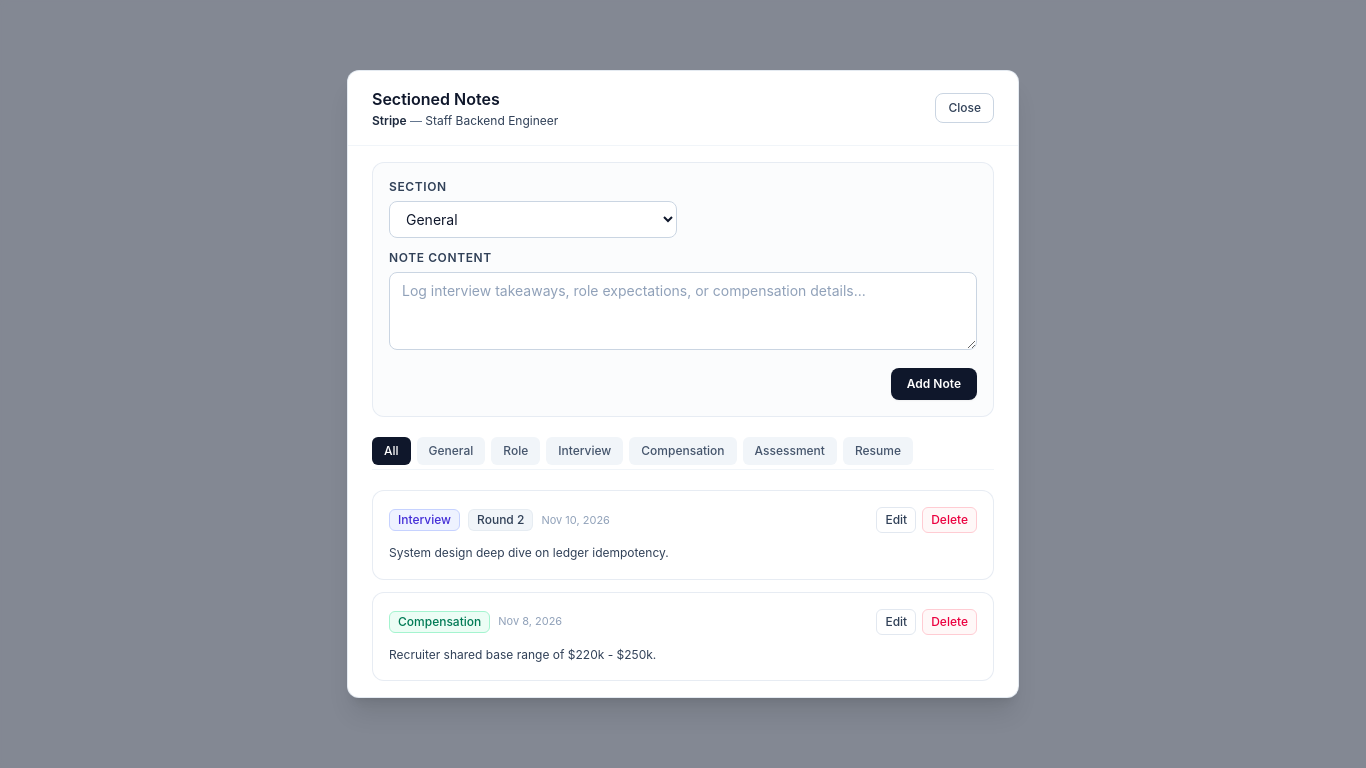
Test: JobNotesModal › creates a new note with conditional interview round and updates notes count
Check: the text "System design deep dive on ledger idempotency." is shown, box x1=389 y1=545 x2=669 y2=560
Select "Interview" in the dropdown labelled "Section" at (533, 220), box x1=389 y1=201 x2=677 y2=238
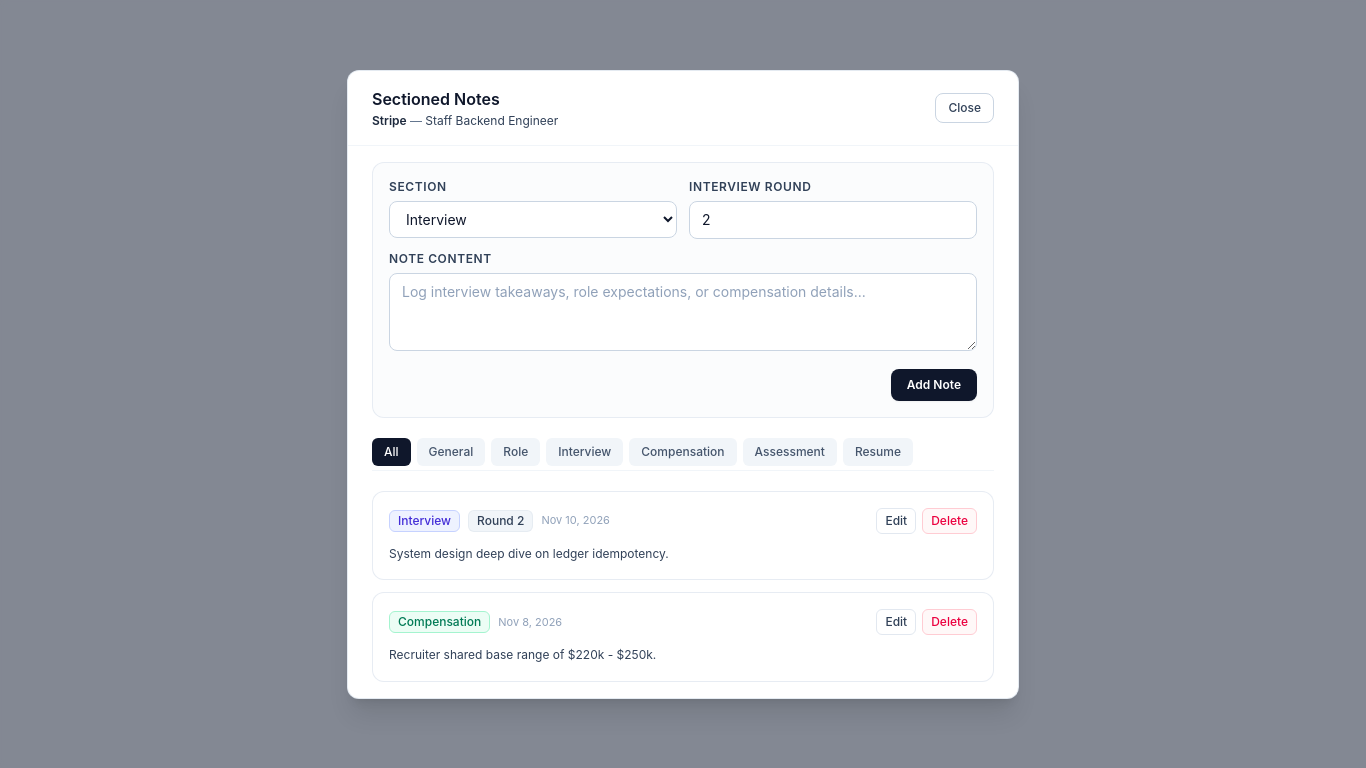
Check: the number field labelled "Interview Round" is shown
Replace the text in the number field labelled "Interview Round" with "3" at (833, 220), box x1=689 y1=200 x2=977 y2=238
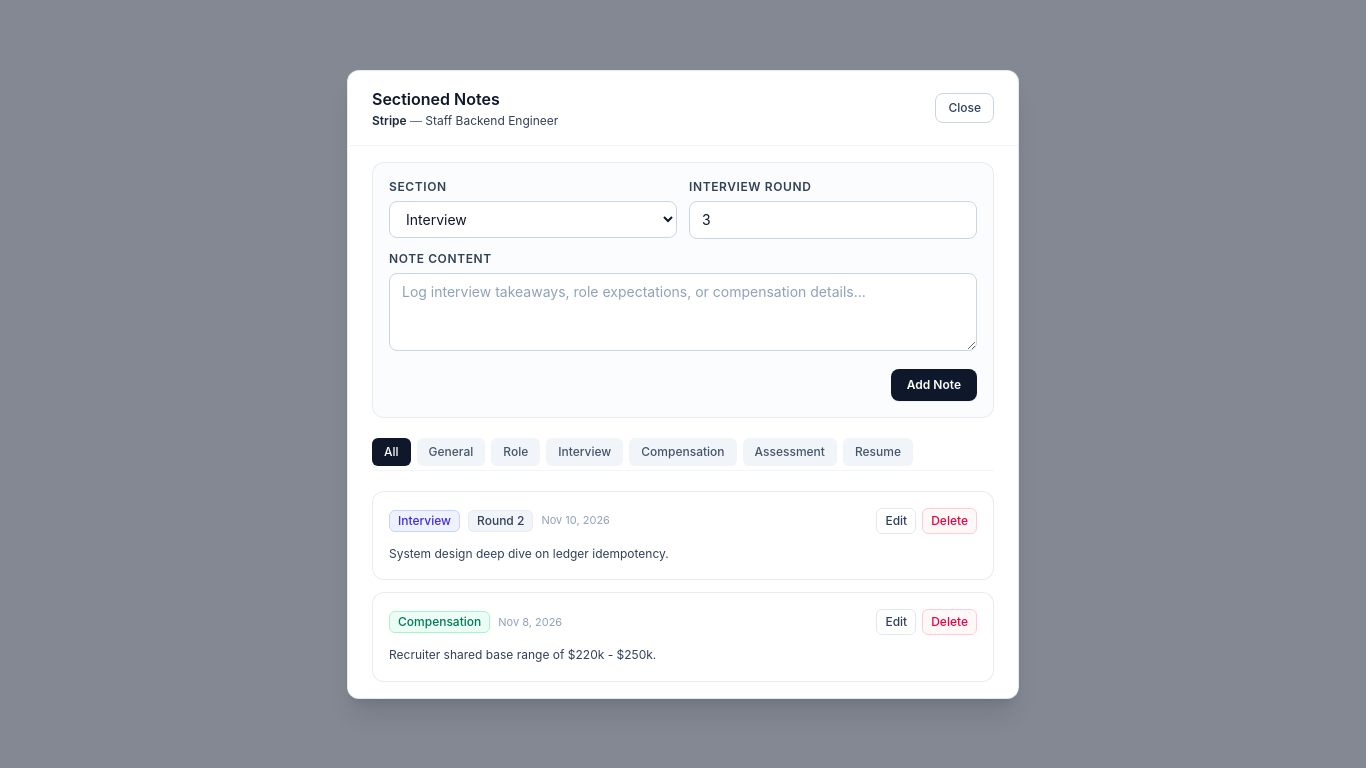
Replace the text in the text box labelled "Note Content" with "Panel debrief with engineering manager." at (683, 312), box x1=389 y1=272 x2=977 y2=350
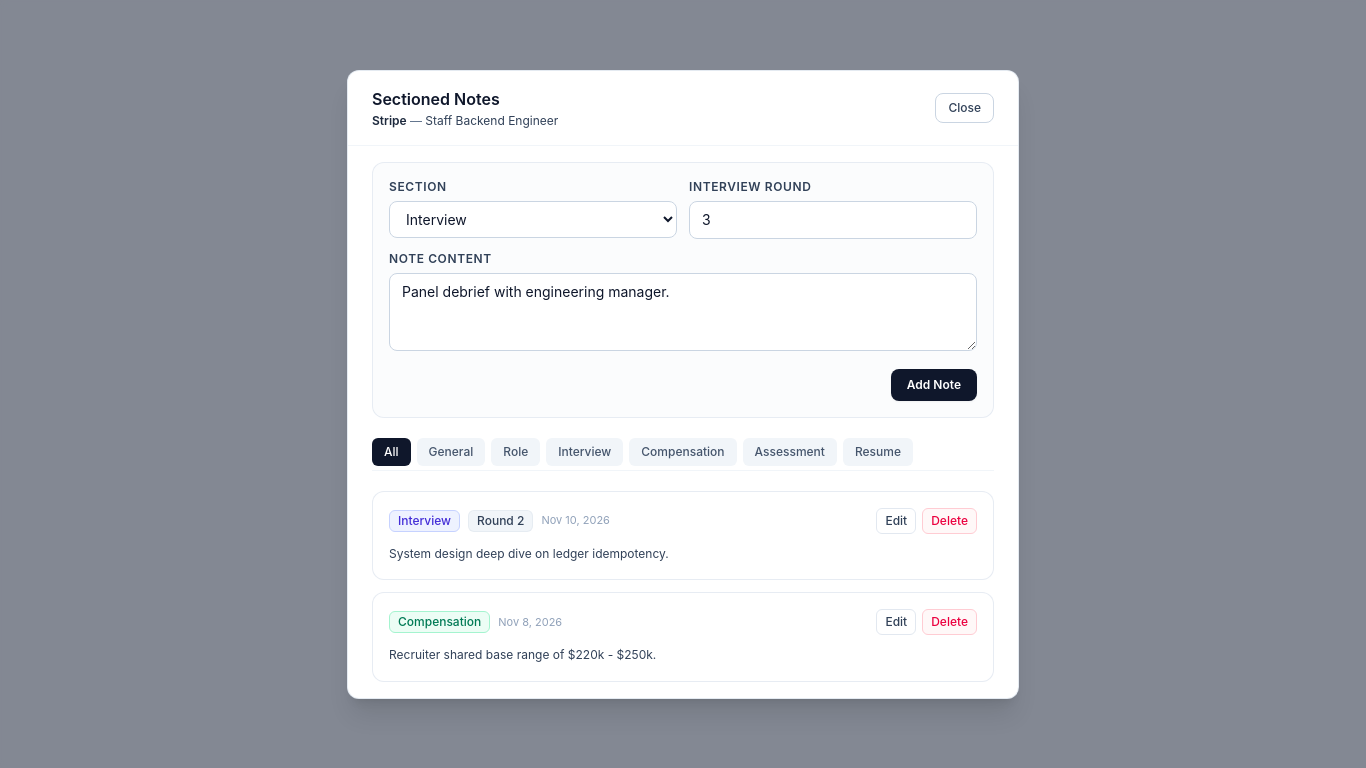
Click the button "Add Note" at (934, 384), box x1=891 y1=368 x2=977 y2=400
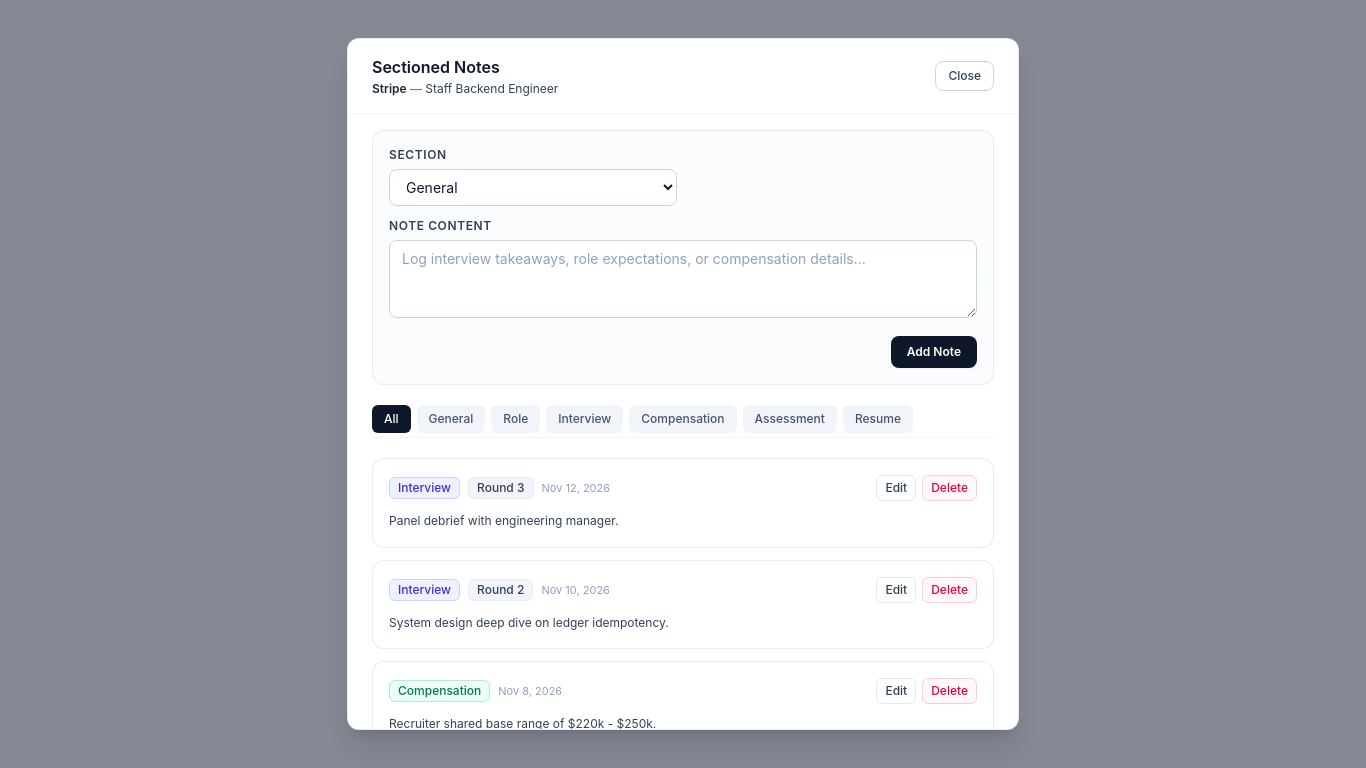
Check: the text "Panel debrief with engineering manager." is shown, box x1=389 y1=513 x2=618 y2=528
Check: the text box labelled "Note Content" is empty, box x1=389 y1=240 x2=977 y2=318
